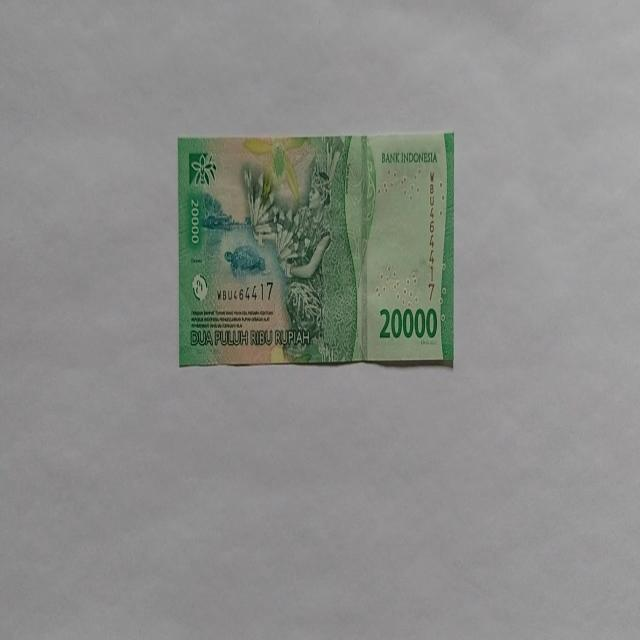dua puluh ribu rupiah: (177, 131, 455, 369), (242, 136, 361, 364)
